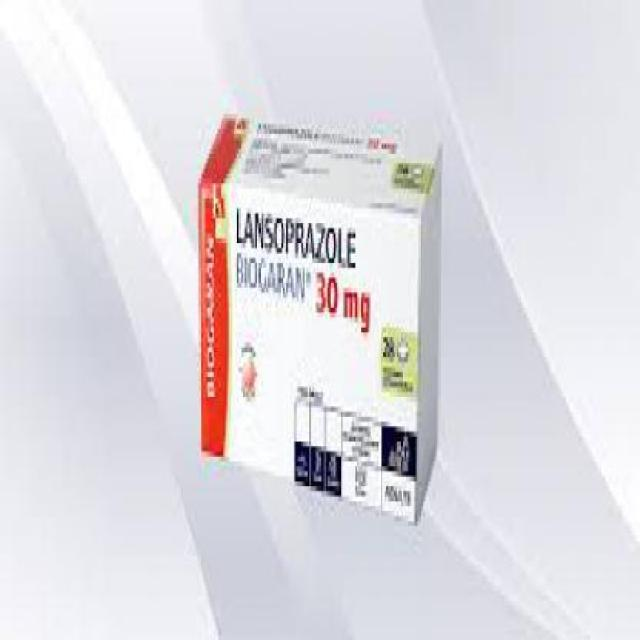CARDBOARD: (198, 109, 440, 522)
